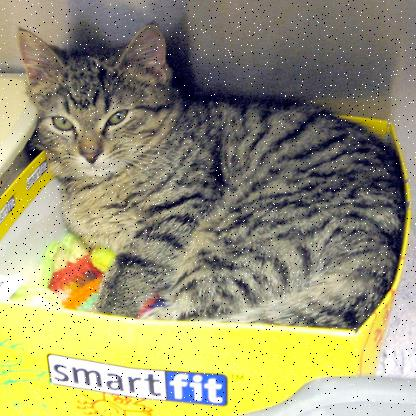cat: (10, 20, 387, 332)
